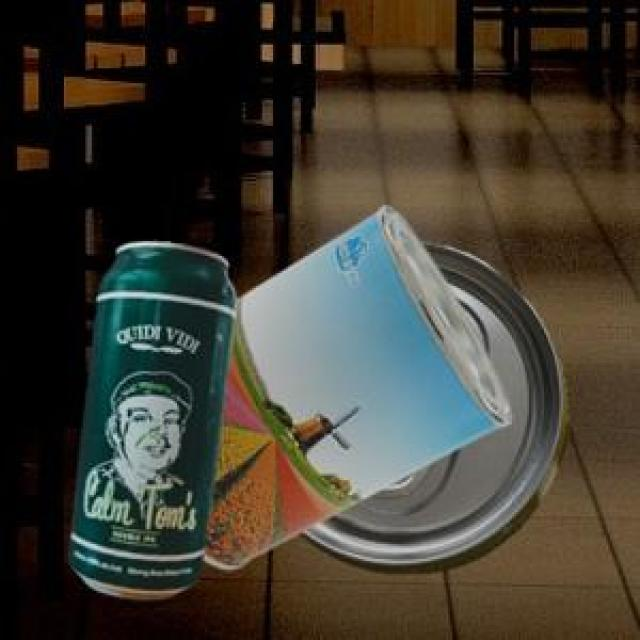logam: (199, 204, 509, 566), (298, 240, 566, 571), (67, 238, 234, 596)
